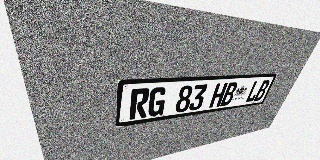3: (188, 84, 208, 111)
8: (174, 85, 195, 113)
B: (220, 82, 239, 106), (253, 80, 271, 101)
G: (147, 87, 168, 117)
H: (209, 83, 228, 108)
L: (245, 80, 263, 103)
R: (129, 88, 150, 120)
